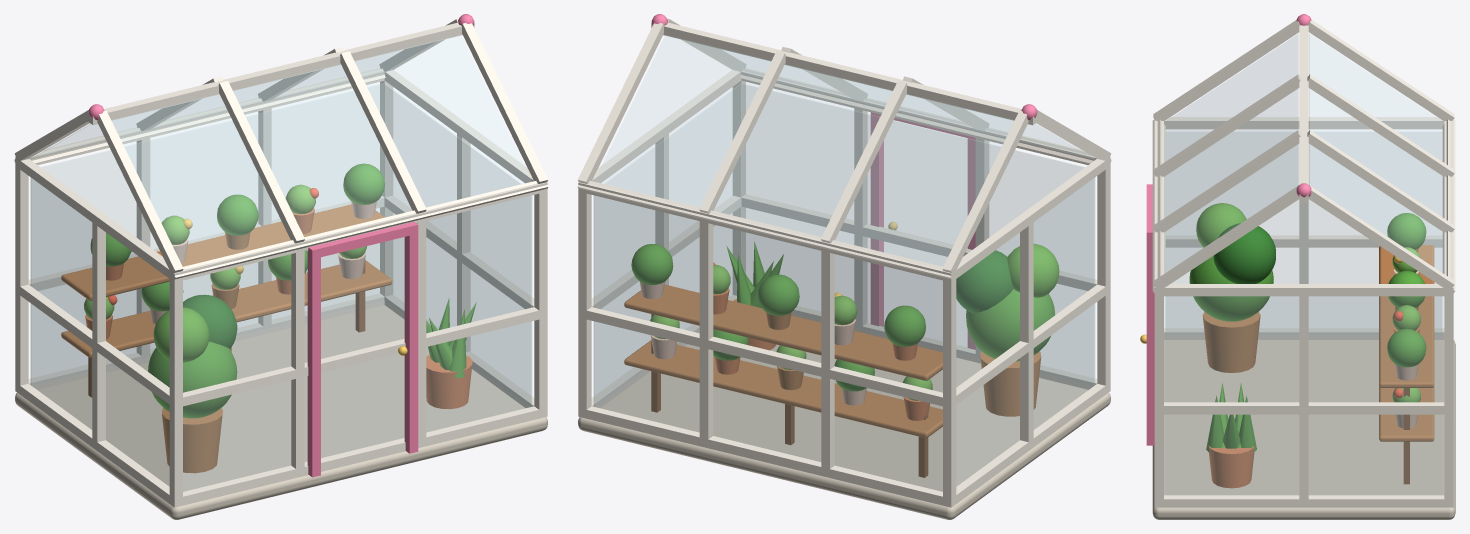
File: greenhouse.glb
The picture shows the model from 3 angles, left to right: view 1: azimuth 30°, elevation 25°; view 2: azimuth 150°, elevation 25°; view 3: azimuth 270°, elevation 25°; orthographic projection. The views are drawn at different scales.
Bounding box in the file's own units: 3.16 × 2.82 × 2.39.
